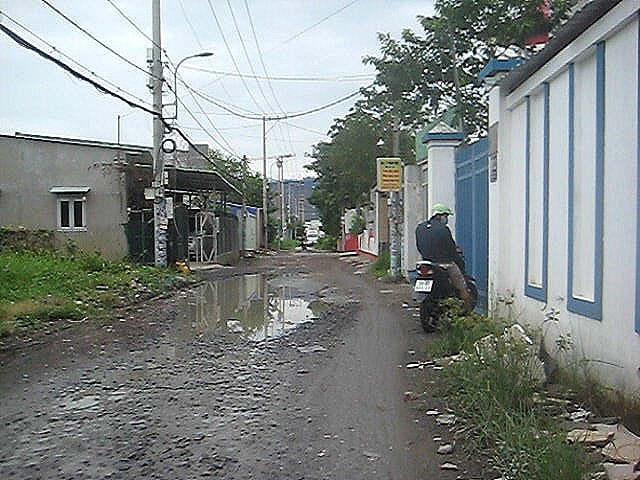hole: (136, 268, 344, 372), (52, 385, 114, 414)
